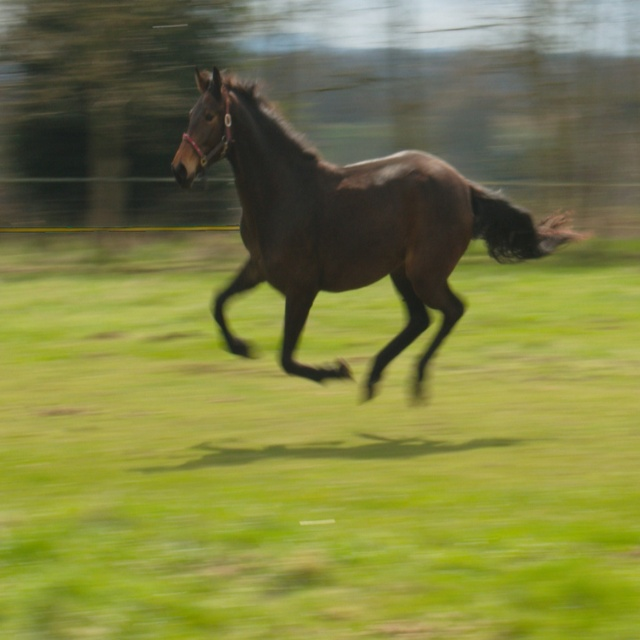Horse: (166, 64, 590, 408)
